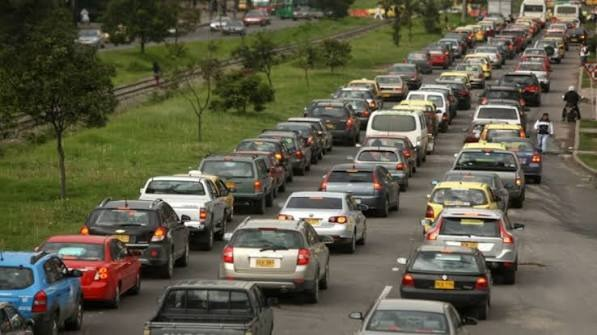car: (1, 31, 597, 335), (213, 16, 582, 271), (96, 24, 545, 230), (163, 8, 587, 179), (20, 242, 120, 323), (220, 222, 318, 299), (141, 282, 276, 335), (38, 237, 141, 306), (393, 246, 492, 312), (1, 255, 81, 333), (382, 269, 485, 329), (408, 228, 505, 290), (100, 204, 184, 275), (276, 192, 363, 253), (424, 208, 517, 265), (27, 251, 93, 329), (140, 176, 225, 235), (107, 197, 192, 256), (92, 225, 163, 294), (33, 234, 124, 287), (352, 293, 466, 334), (444, 218, 519, 278), (422, 191, 500, 247), (447, 152, 522, 204), (199, 156, 272, 209), (320, 165, 397, 215), (432, 167, 513, 214), (88, 200, 166, 247), (362, 111, 426, 165), (361, 113, 424, 167), (212, 144, 276, 197), (357, 124, 419, 177), (423, 178, 499, 221), (335, 154, 400, 204), (464, 168, 524, 208), (87, 200, 148, 236), (454, 148, 518, 182), (355, 140, 408, 181), (471, 103, 523, 142), (1, 251, 45, 297), (267, 124, 312, 168), (478, 237, 519, 285), (255, 131, 299, 173), (235, 136, 284, 172), (311, 100, 355, 139), (258, 125, 308, 158), (283, 118, 321, 160), (270, 119, 318, 152), (408, 93, 446, 132), (335, 100, 368, 141)
